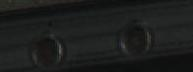joints: (117, 17, 154, 58), (28, 29, 65, 70)
